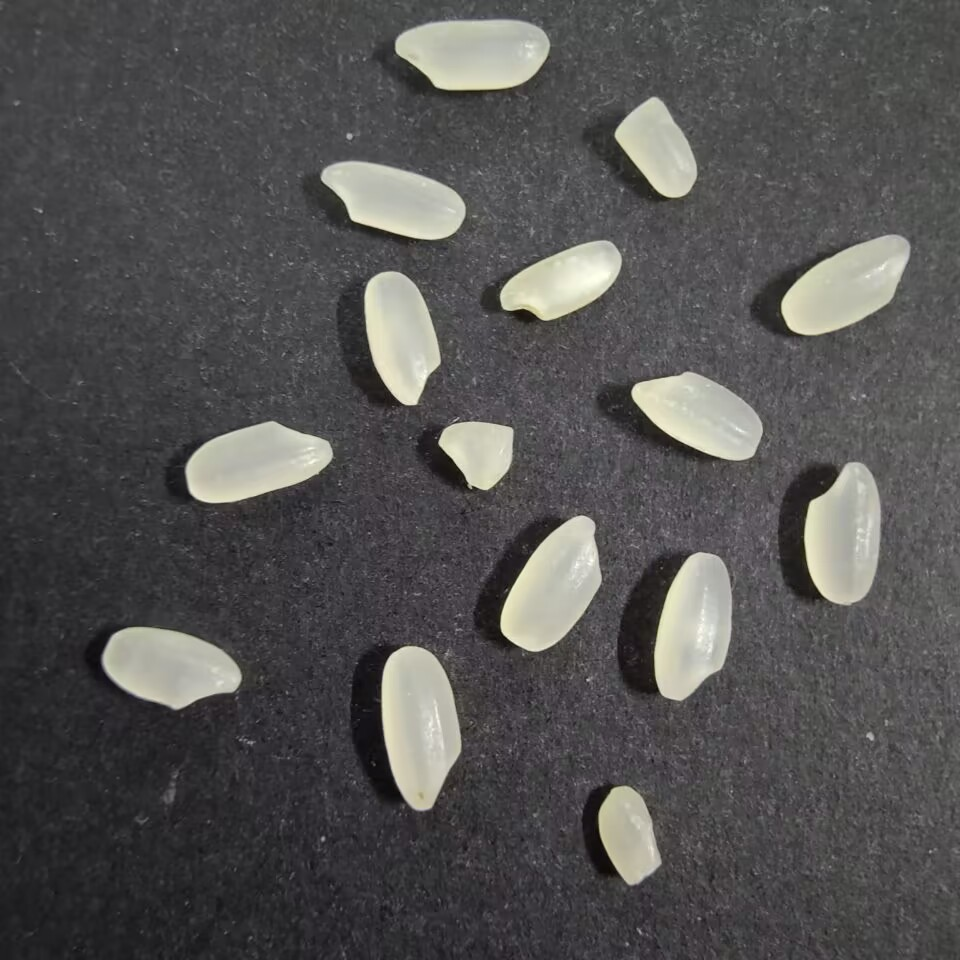broken: (611, 94, 702, 202), (593, 783, 665, 891), (435, 416, 516, 494)
rice: (378, 644, 467, 814), (496, 512, 602, 653), (776, 234, 916, 337), (180, 417, 337, 505), (314, 155, 471, 241), (626, 365, 765, 462), (650, 549, 738, 701), (801, 456, 885, 608), (96, 626, 249, 709), (391, 16, 550, 95), (359, 267, 446, 408), (497, 237, 626, 320)
